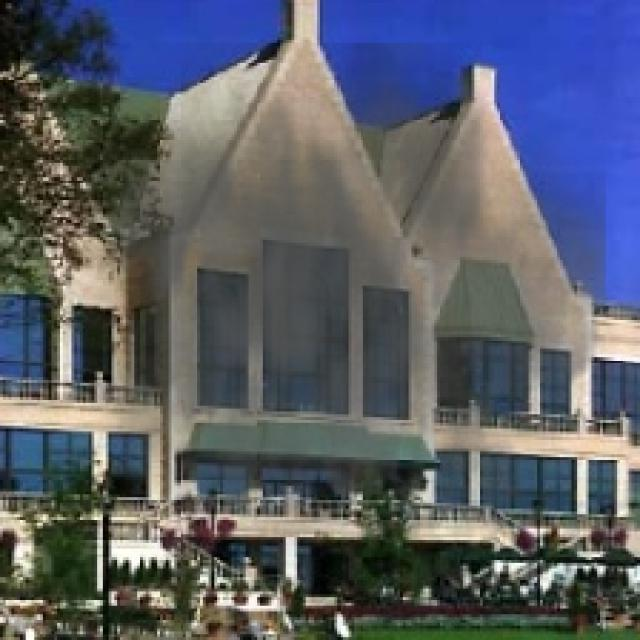smoke: (63, 43, 606, 600)
